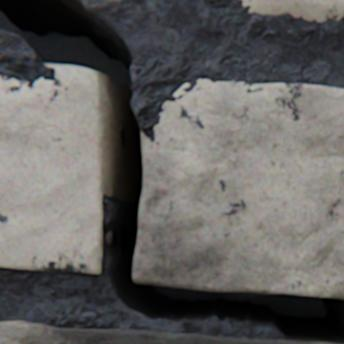brick: (133, 80, 343, 298), (0, 74, 104, 273), (0, 321, 331, 343), (242, 0, 343, 23)
crack: (0, 0, 343, 343)
